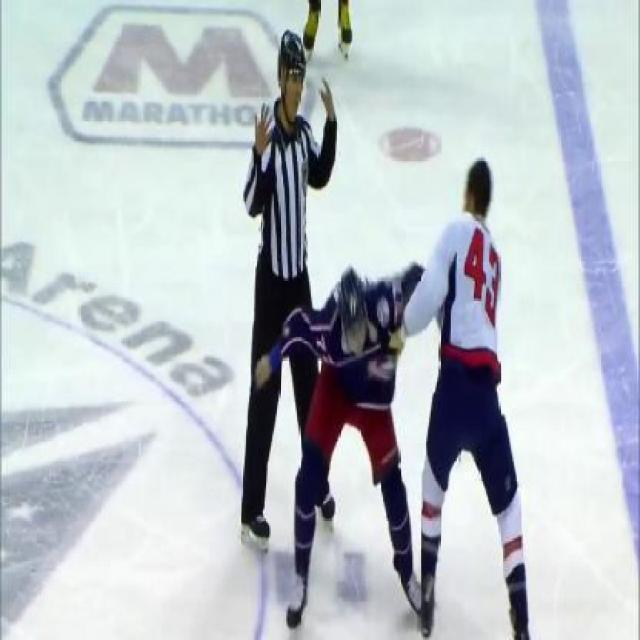fight: (289, 160, 528, 638)
